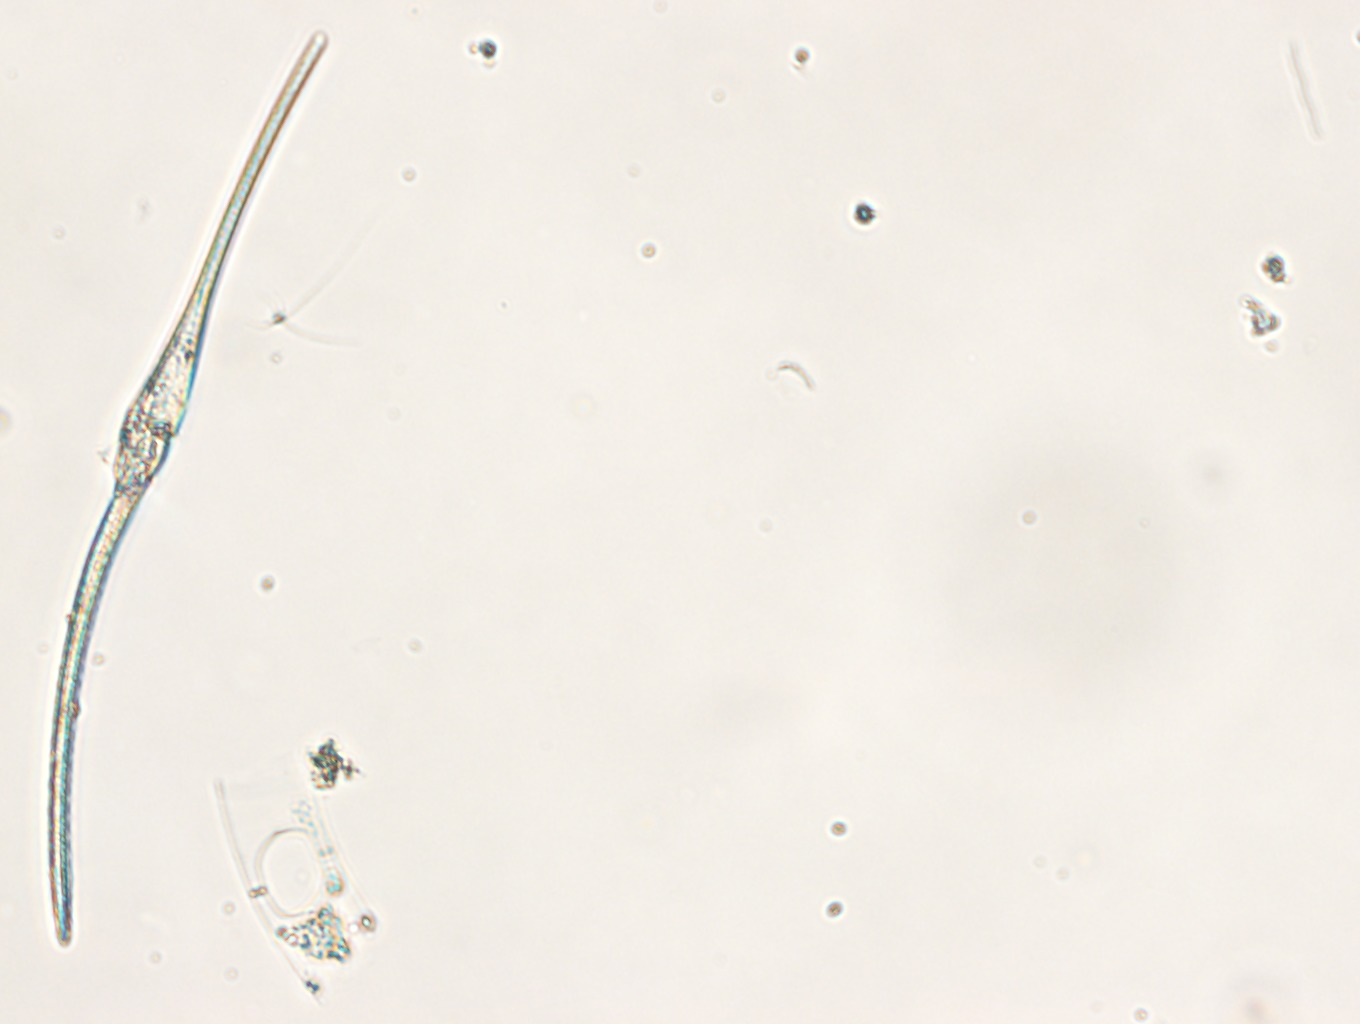ceratium fusus: (46, 29, 326, 947)
eucampia: (216, 773, 380, 998)
